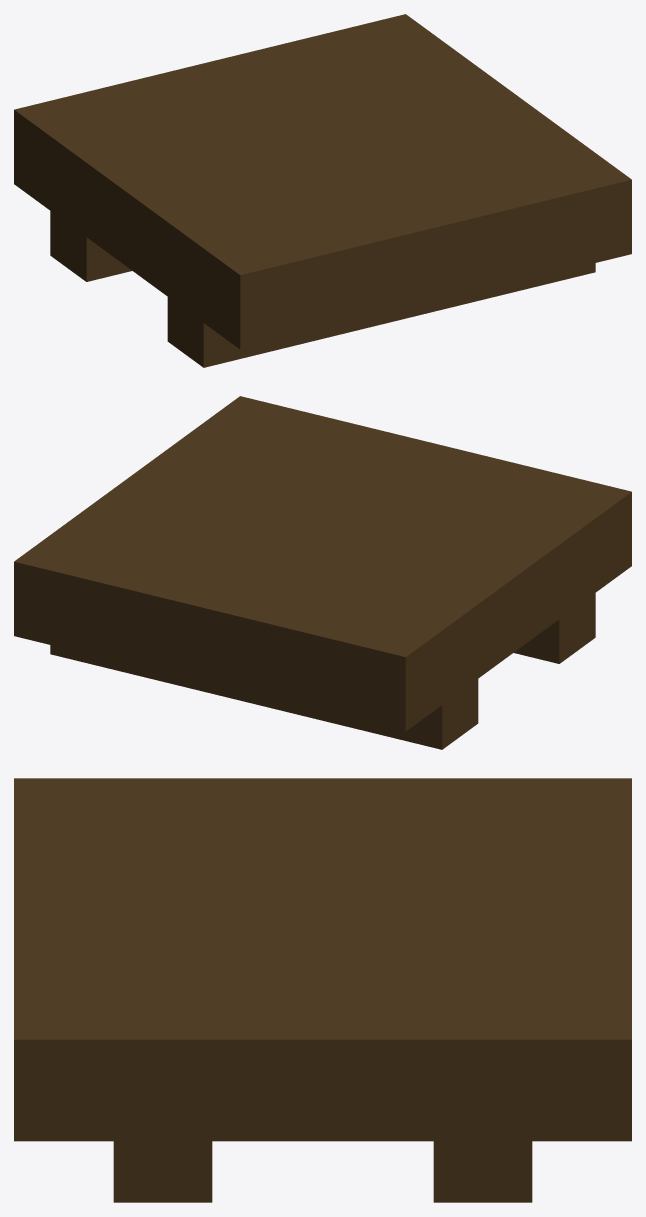
The model's file is palet.fbx.
3 renders of one model, top to bottom at view 1: azimuth 30°, elevation 25°; view 2: azimuth 150°, elevation 25°; view 3: azimuth 270°, elevation 25°, orthographic. The views are drawn at different scales.
Parts seen in each view (by area): view 1: palet; view 2: palet; view 3: palet.
Boxes of the visible parts, x1,y1,x2,y2 form: palet: (14, 14, 631, 367); palet: (14, 396, 631, 749); palet: (14, 778, 631, 1202).
Bounding box in the file's own units: 0.86 × 0.2504 × 0.86.
